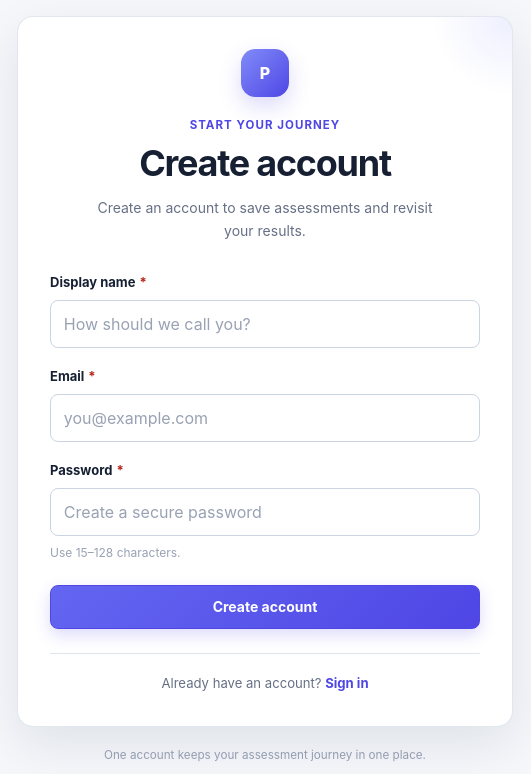
Scenario: RegisterPage › shows an email error when the account already exists
In the field labelled "Display name": (265, 324) [50,300,480,348], type "Portfolio User"
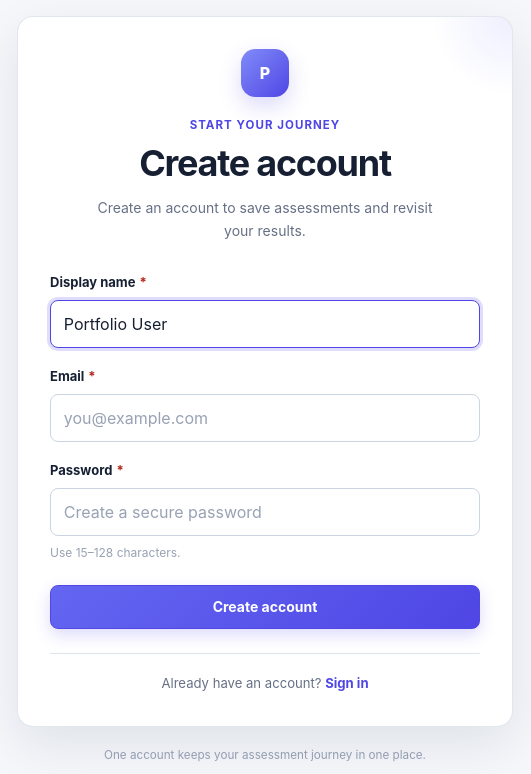
In the field labelled "Email": (265, 418) [50,394,480,442], type "user@example.com"
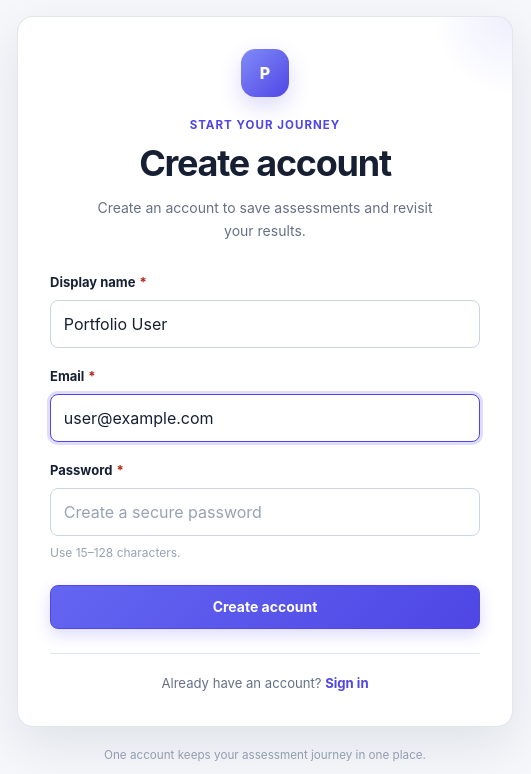
In the password field labelled "Password": (265, 512) [50,488,480,536], type "very-secure-password"
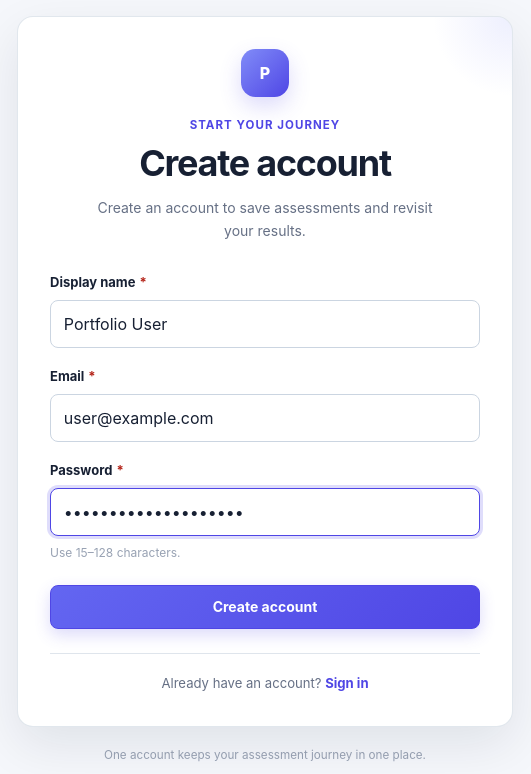
Click the button "Create account": (265, 607) [50,585,480,629]
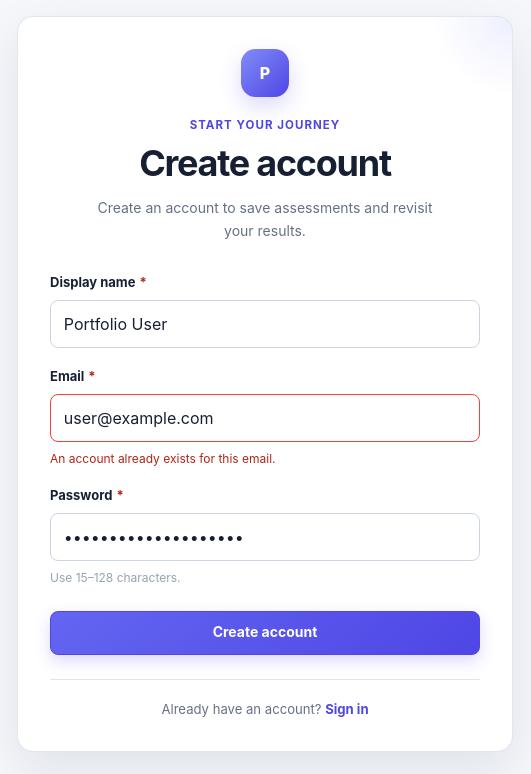
Expected: the text "An account already exists for this email." is shown, [50,451,276,466]
